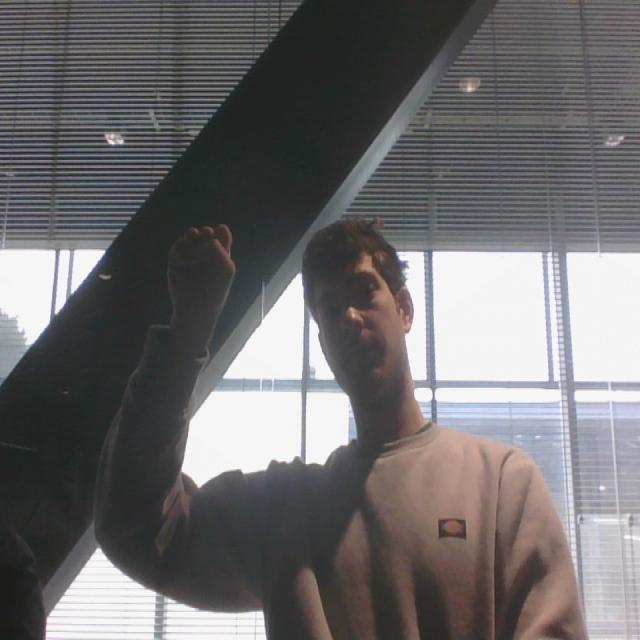stop: (156, 216, 239, 343)
